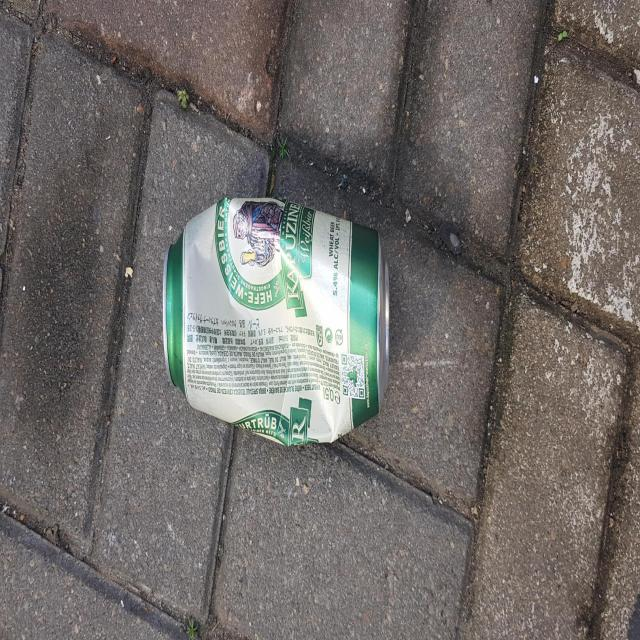can: (162, 196, 389, 447)
